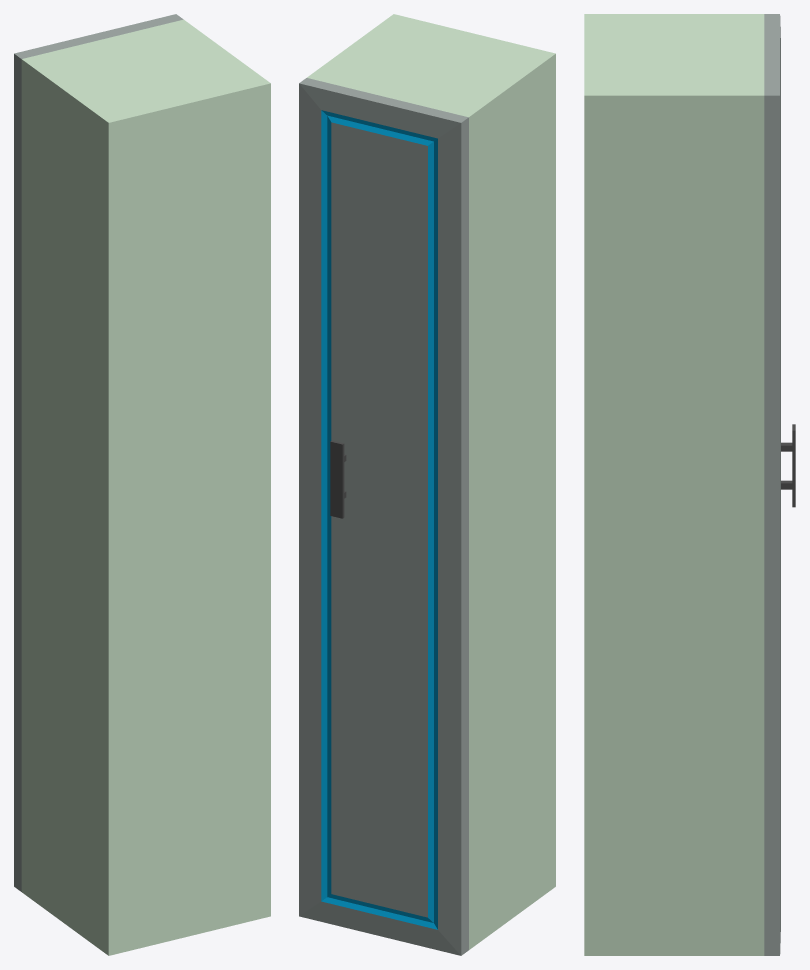
Rendered from Dolap-Kapaksız-2.fbx.
The picture shows the model from 3 angles, left to right: view 1: azimuth 30°, elevation 25°; view 2: azimuth 150°, elevation 25°; view 3: azimuth 270°, elevation 25°; orthographic projection. The views are drawn at different scales.
Parts seen in each view (by area): view 1: dolap.001; view 2: dolap.001, Cube.017; view 3: dolap.001, Cube.017.
Boxes of the visible parts, x1,y1,x2,y2 form: dolap.001: [14, 14, 270, 955]; dolap.001: [299, 14, 555, 955]; Cube.017: [330, 440, 346, 518]; dolap.001: [584, 14, 780, 955]; Cube.017: [781, 424, 795, 507].
Bounding box in the file's own units: 200 × 981 × 218.
